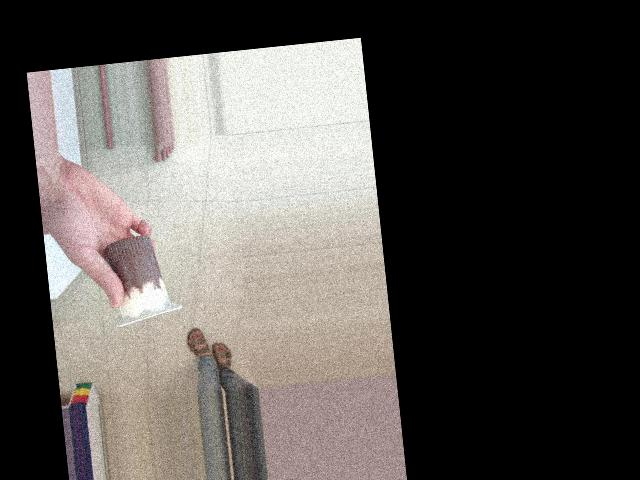milky: (117, 240, 175, 325)
